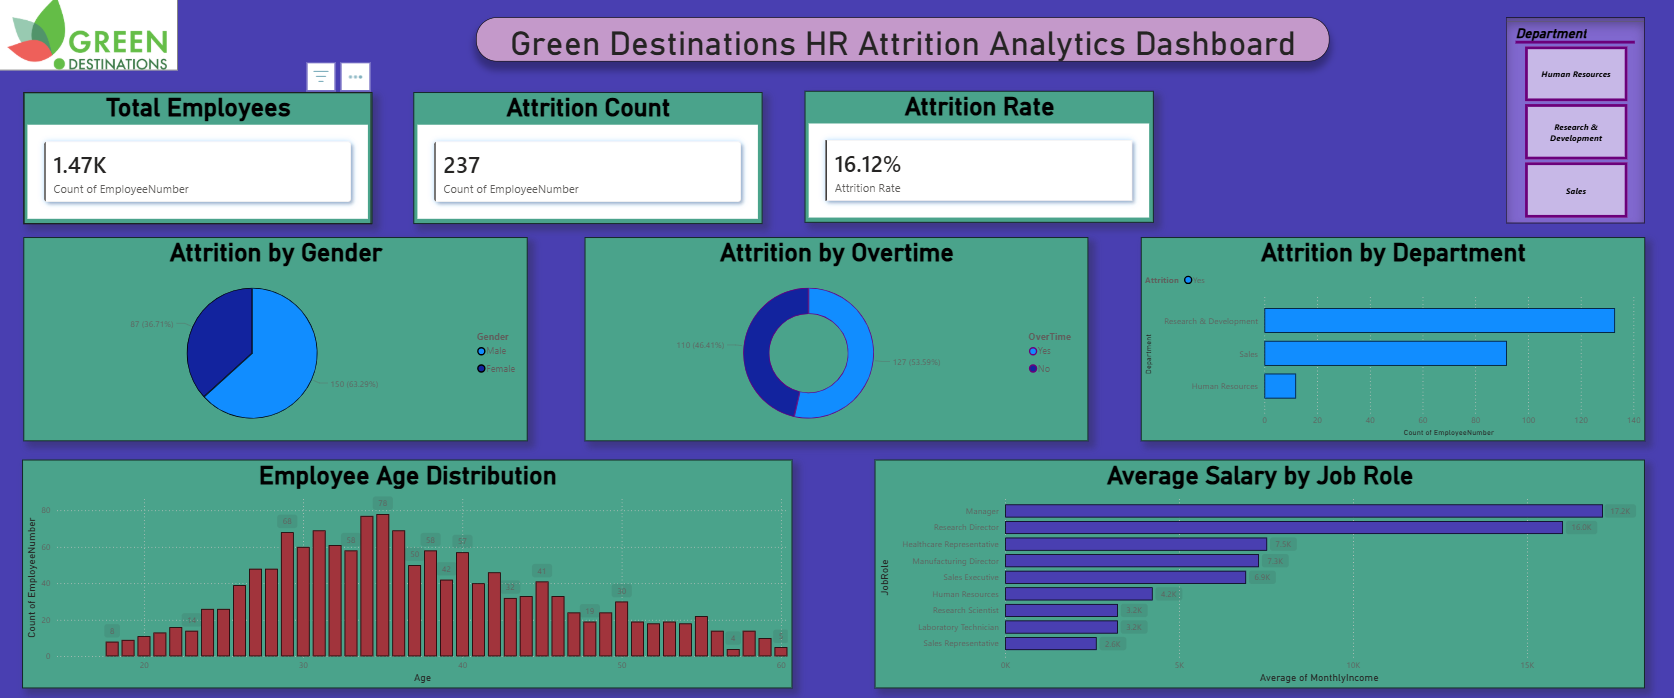

The dashboard page shown, as its layout file describes it:
{"tool":"powerbi","page":{"name":"Page 1","canvas":[2400,1005],"ordinal":0},"visuals":[{"type":"cardVisual","title":"Total Employees","fields":{"Data":["CountNonNull(employees.EmployeeNumber)"]},"box":[38.6,136.8,498,187.7],"z":0},{"type":"cardVisual","title":"Attrition Count","fields":{"Data":["CountNonNull(employees.EmployeeNumber)"]},"box":[596.5,136.8,498,187.7],"z":1000},{"type":"clusteredBarChart","title":"Attrition by Department","fields":{"Category":["employees.Department"],"Y":["CountNonNull(employees.EmployeeNumber)"],"Series":["employees.Attrition"]},"box":[1635.1,343.9,720,291.2],"z":2000},{"type":"pieChart","title":"Attrition by Gender","fields":{"Category":["employees.Gender"],"Y":["CountNonNull(employees.EmployeeNumber)"]},"box":[38.6,343.9,720,291.2],"z":3000},{"type":"donutChart","title":"Attrition by Overtime","fields":{"Category":["employees.OverTime"],"Y":["CountNonNull(employees.EmployeeNumber)"]},"box":[840.4,343.9,719.3,291.2],"z":4000},{"type":"clusteredBarChart","title":"Average Salary by Job Role","fields":{"Category":["employees.JobRole"],"Y":["Avg(employees.MonthlyIncome)"]},"box":[1256,662,1100,326],"z":5000},{"type":"clusteredColumnChart","title":"Employee Age Distribution","fields":{"Category":["employees.Age"],"Y":["CountNonNull(employees.EmployeeNumber)"]},"box":[38,662,1100,326],"z":6000},{"type":"cardVisual","title":"Attrition Rate","fields":{"Data":["employees.Attrition Rate"]},"box":[1156.1,135.1,498.2,187.7],"z":7000},{"type":"slicer","fields":{"Values":["employees.Department"]},"box":[2158,30,198,294],"z":8000},{"type":"textbox","title":"Green Destinations HR Attrition Analytics Dashboard","box":[686.5,30.8,1219.2,63.5],"z":9000},{"type":"image","box":[0,0,260,106],"z":10000}]}

Visuals, with their boxes in screenshot pixels (x1, y1, x2, y2), scaled from the page's 2400x1005 canvas onto the 1674x698 screenshot:
"Total Employees" cardVisual: region(27, 95, 374, 225)
"Attrition Count" cardVisual: region(416, 95, 763, 225)
"Attrition by Department" clusteredBarChart: region(1140, 239, 1643, 441)
"Attrition by Gender" pieChart: region(27, 239, 529, 441)
"Attrition by Overtime" donutChart: region(586, 239, 1088, 441)
"Average Salary by Job Role" clusteredBarChart: region(876, 460, 1643, 686)
"Employee Age Distribution" clusteredColumnChart: region(27, 460, 794, 686)
"Attrition Rate" cardVisual: region(806, 94, 1154, 224)
slicer - employees.Department: region(1505, 21, 1643, 225)
"Green Destinations HR Attrition Analytics Dashboard" textbox: region(479, 21, 1329, 65)
image: region(0, 0, 181, 74)
